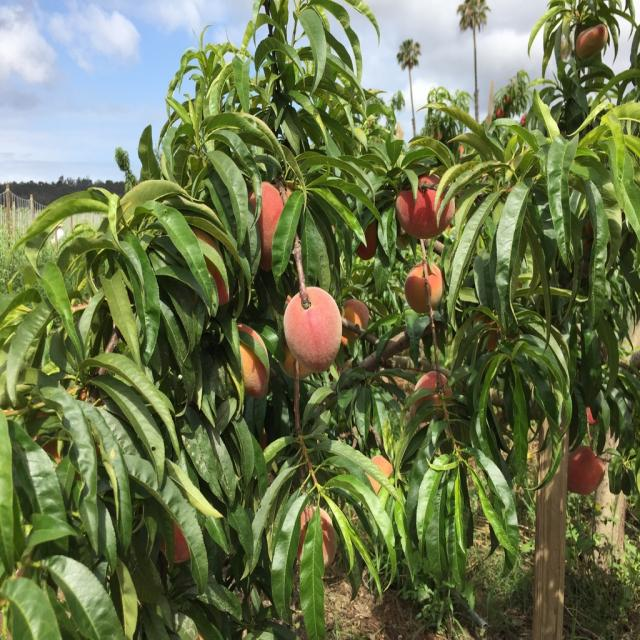Peach: (284, 286, 343, 372), (249, 179, 292, 271), (397, 175, 453, 236), (191, 227, 231, 302), (294, 504, 333, 566), (240, 323, 270, 399), (158, 521, 204, 564), (403, 262, 443, 310), (416, 368, 452, 419), (568, 448, 606, 493), (474, 305, 506, 352), (362, 455, 392, 498), (574, 22, 608, 57), (340, 299, 366, 339), (282, 344, 312, 378), (357, 218, 378, 261), (588, 406, 598, 424)
